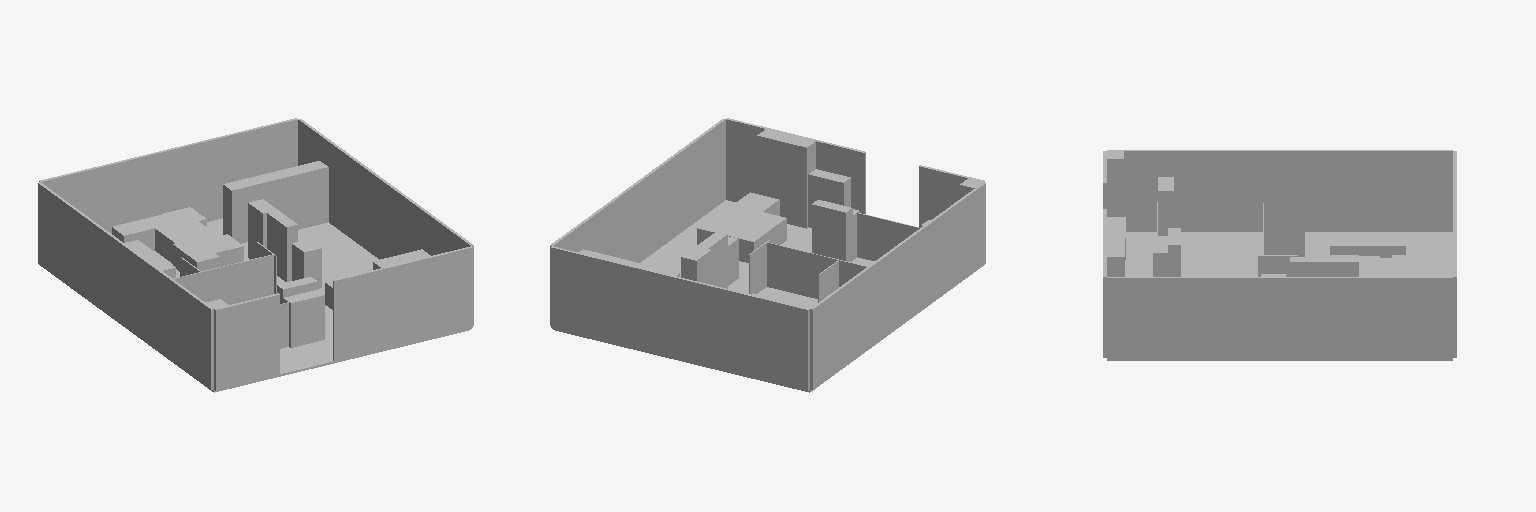
The model's file is lab0_3.obj.
3 views of the same model, side by side, from view 1: azimuth 30°, elevation 25°; view 2: azimuth 150°, elevation 25°; view 3: azimuth 270°, elevation 25° (orthographic).
Visible parts, largest first — view 1: Mesh1 Model; view 2: Mesh1 Model; view 3: Mesh1 Model.
Boxes of the visible parts, x1,y1,x2,y2 form: Mesh1 Model: [38, 118, 473, 392]; Mesh1 Model: [550, 118, 985, 392]; Mesh1 Model: [1103, 150, 1456, 360].
Bounding box in the file's own units: 920 × 280 × 1070.